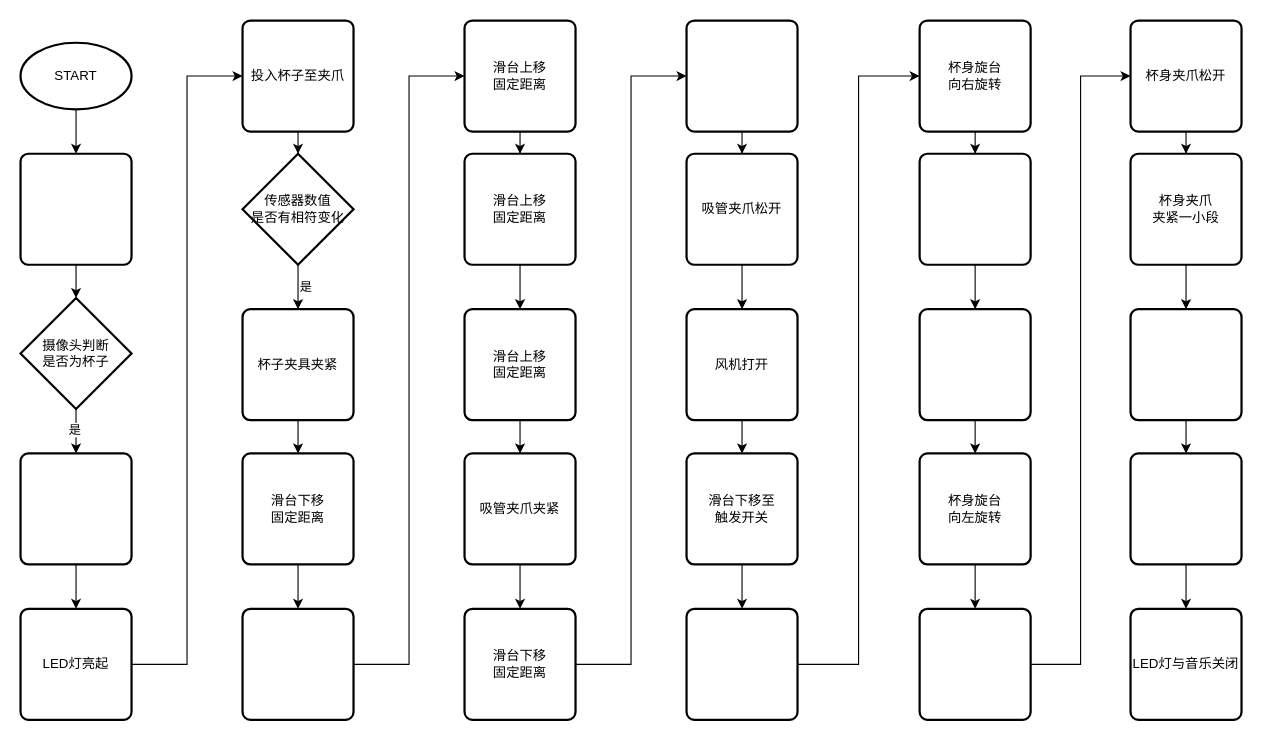
Some shapes in this 1261 by 739 pixel diagram are drawn without their labels. Each missing label, with the box of its shape:
吸管夹爪 顺时针旋转至 吸管桶上方: (685, 19, 798, 132)
吸管夹爪逆时针 旋转至奶茶杯上方: (241, 607, 354, 720)
将杯子移至 投放口上方: (19, 152, 132, 265)
播放主题音乐: (19, 452, 132, 565)
暂停三秒: (918, 307, 1031, 421)
杯身夹爪顺时针旋转约30度: (918, 607, 1031, 720)
杯身夹爪顺时针旋转约60度: (918, 152, 1031, 265)
杯身旋台上升至 触发开关: (1129, 452, 1242, 565)
杯身旋台向左旋转至初始位置: (1129, 307, 1242, 421)
风机关闭: (685, 607, 798, 720)
